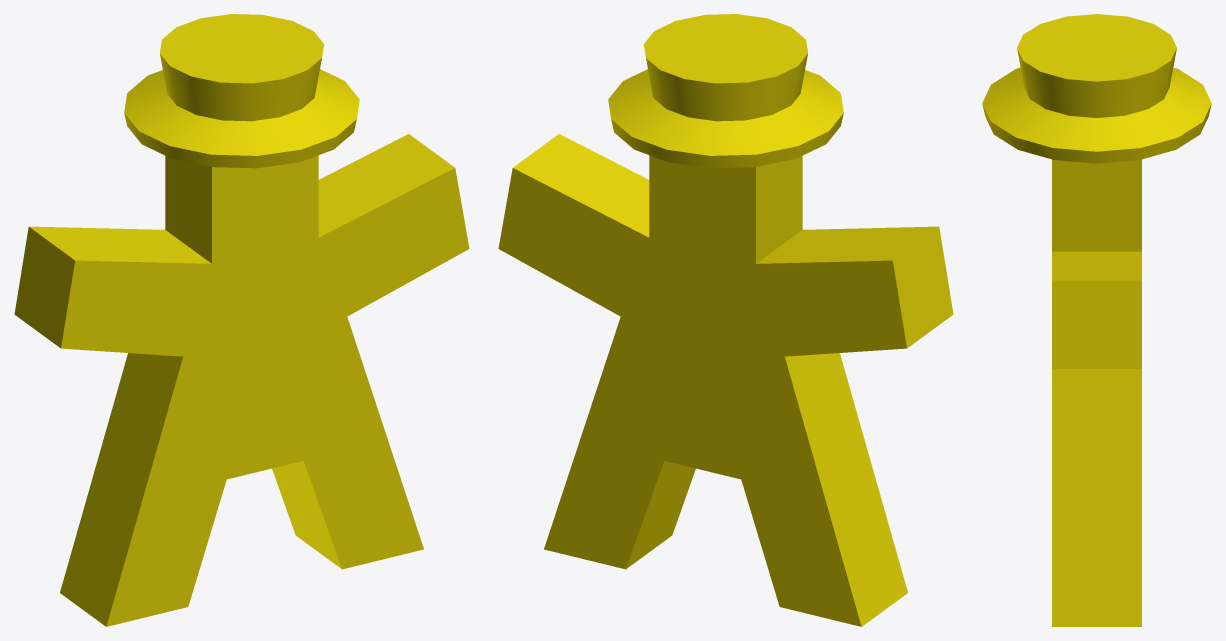
Rendered from Player_Dude.fbx.
The picture shows the model from 3 angles, left to right: view 1: azimuth 30°, elevation 25°; view 2: azimuth 150°, elevation 25°; view 3: azimuth 270°, elevation 25°; orthographic projection. The views are drawn at different scales.
Parts seen in each view (by area): view 1: Player_Dude; view 2: Player_Dude; view 3: Player_Dude.
Part boxes in pixels (x1,y1,x2,y2): Player_Dude: (14,14,469,626); Player_Dude: (498,14,953,626); Player_Dude: (982,14,1211,626).
Bounding box in the file's own units: 2085 × 2547 × 1051.
